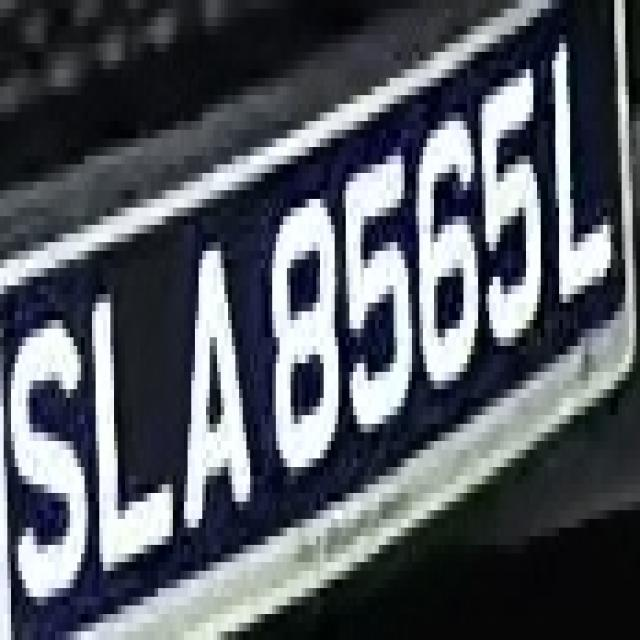5: (331, 138, 416, 467), (474, 69, 552, 355)
6: (404, 95, 496, 424)
8: (257, 156, 346, 493)
A: (162, 199, 261, 553)
L: (85, 251, 184, 571), (541, 44, 618, 312)
S: (4, 294, 99, 614)
